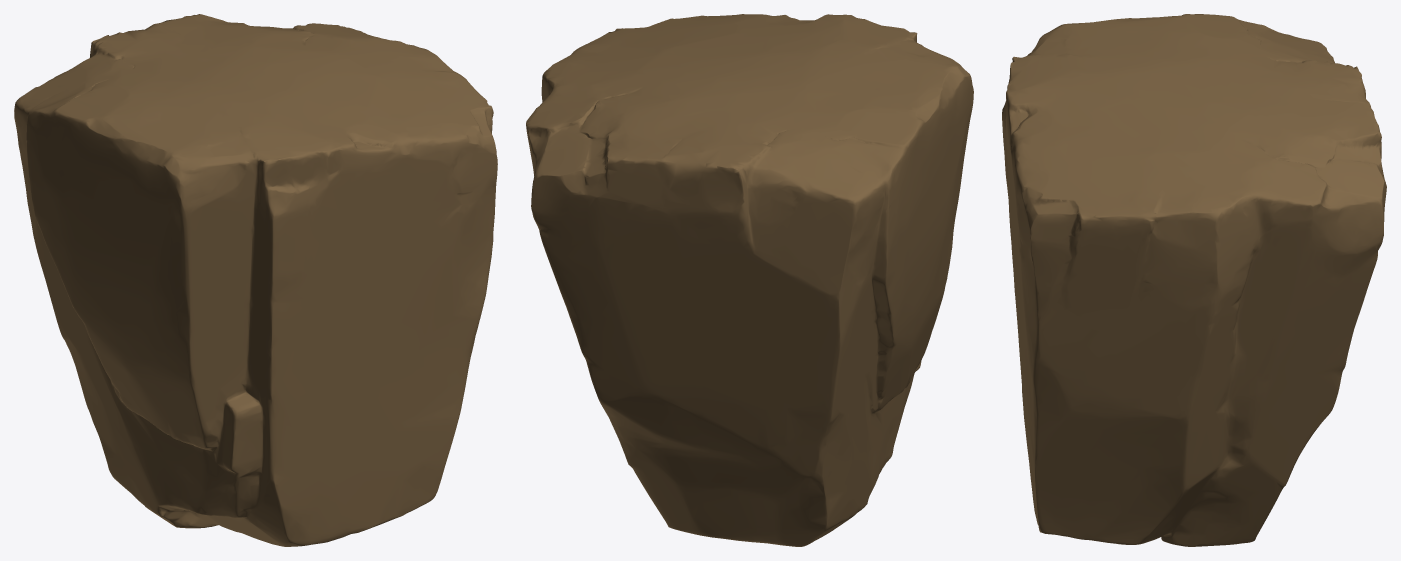
3 renders of one model, left to right at view 1: azimuth 30°, elevation 25°; view 2: azimuth 150°, elevation 25°; view 3: azimuth 270°, elevation 25°, orthographic. The views are drawn at different scales.
Visible parts, largest first — view 1: SM_BM_Cliff_Bottom_02_LOD0; view 2: SM_BM_Cliff_Bottom_02_LOD0; view 3: SM_BM_Cliff_Bottom_02_LOD0.
Part boxes in pixels (box(x1,y1,x2,y2)): SM_BM_Cliff_Bottom_02_LOD0: box(14, 14, 497, 546); SM_BM_Cliff_Bottom_02_LOD0: box(526, 14, 973, 546); SM_BM_Cliff_Bottom_02_LOD0: box(1002, 14, 1386, 546).
Bounding box in the file's own units: 15.04 × 16.81 × 13.52.
